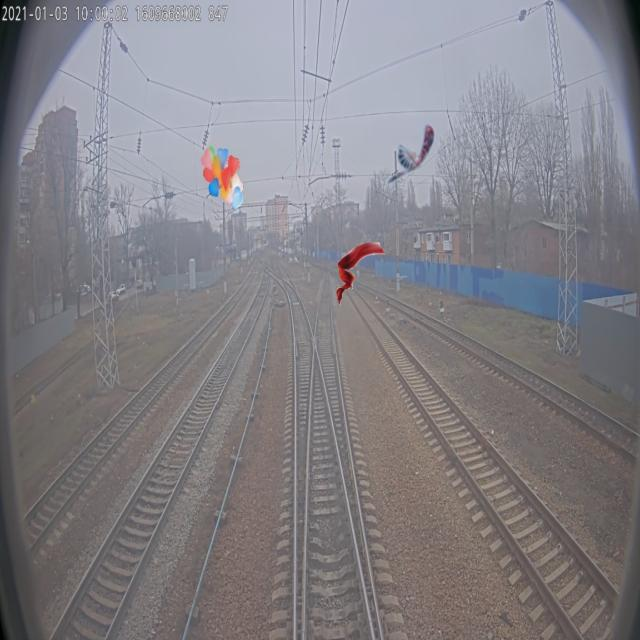balloon: (201, 146, 244, 210)
floating object: (384, 121, 436, 186), (336, 242, 385, 306)
